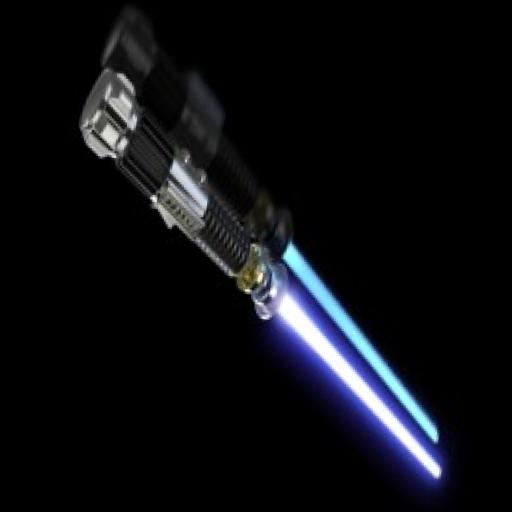lightsaber: (40, 64, 488, 482)
